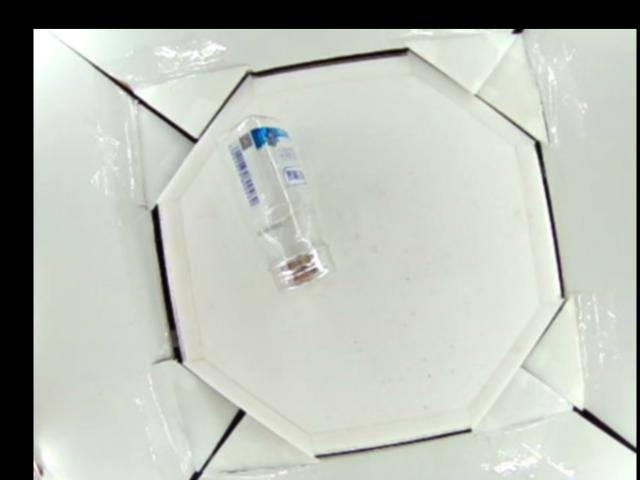Bottle: (216, 116, 335, 289)
